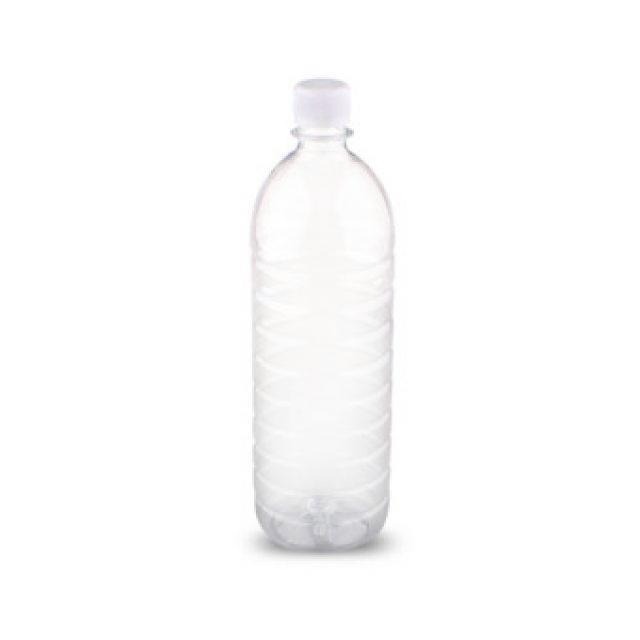bottle: (247, 79, 392, 552)
